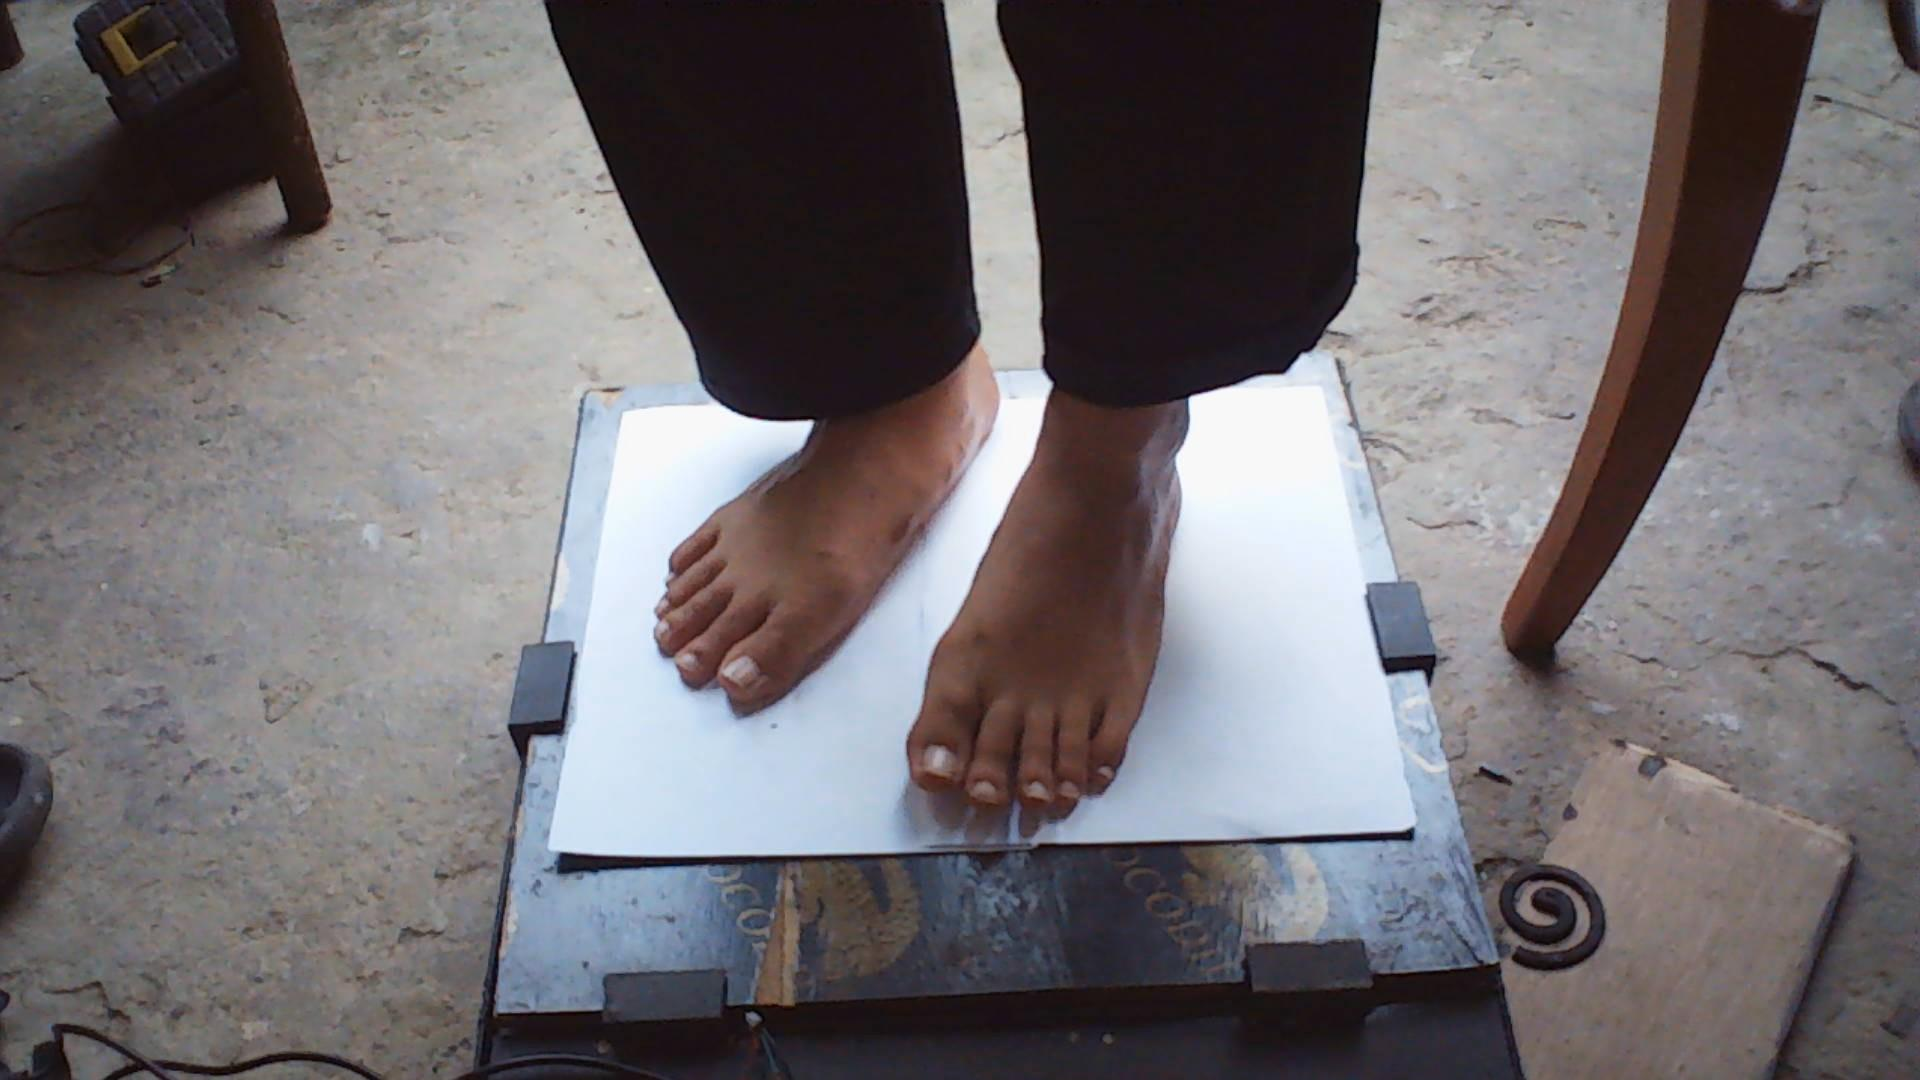Bare_feet: (655, 414, 1216, 831)
